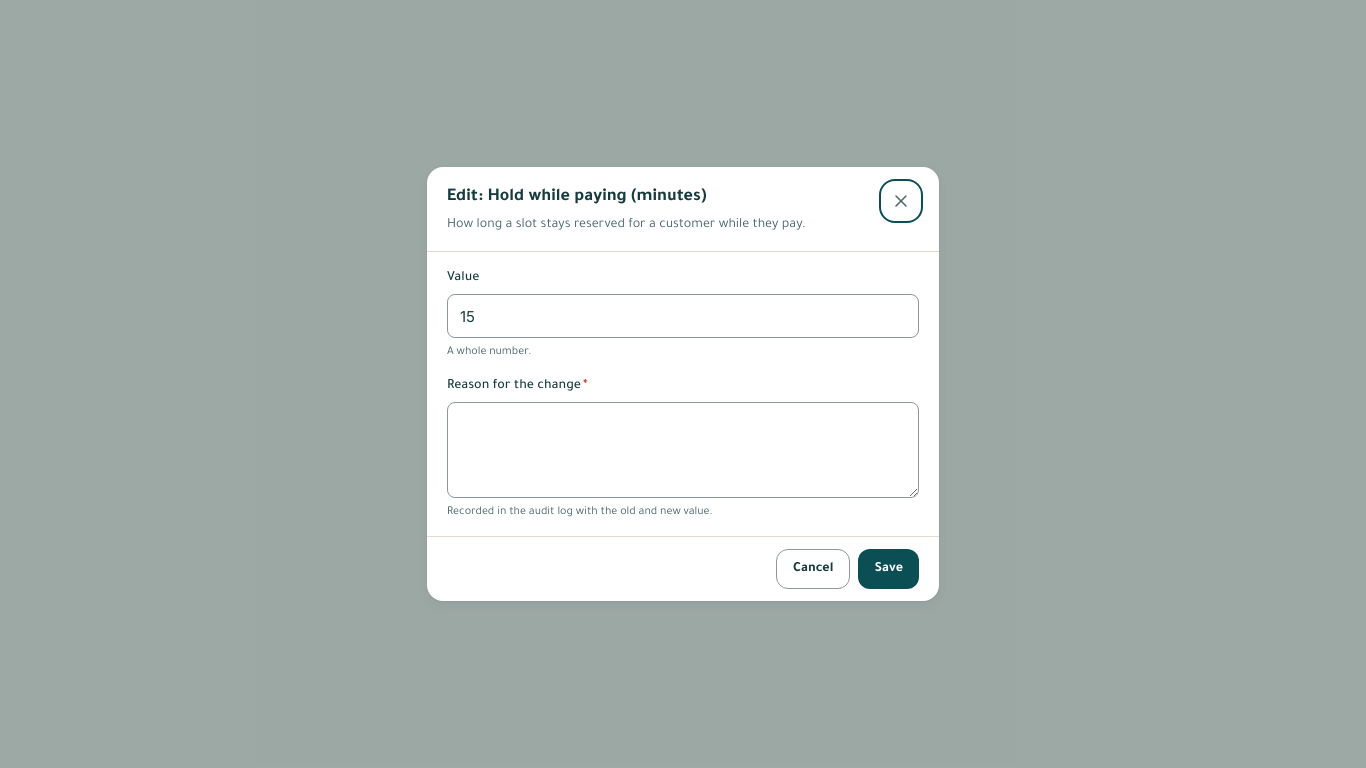
Test: SettingEditDialog › shows the API's INVALID_SETTING_VALUE on the value
Type "x" into the text box labelled "Reason for the change*" at (683, 450), box [447,402,919,498]
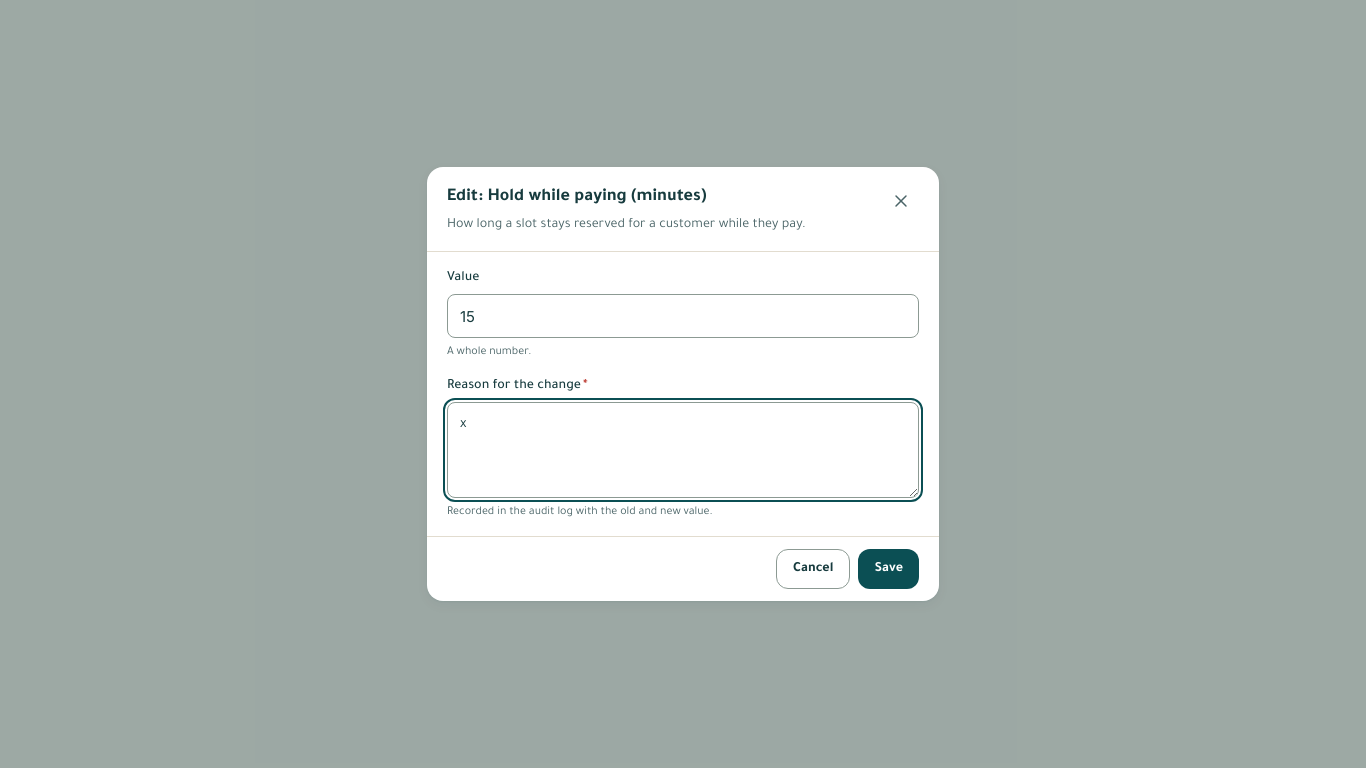
Click the button "Save" at (889, 569), box [858,549,919,589]
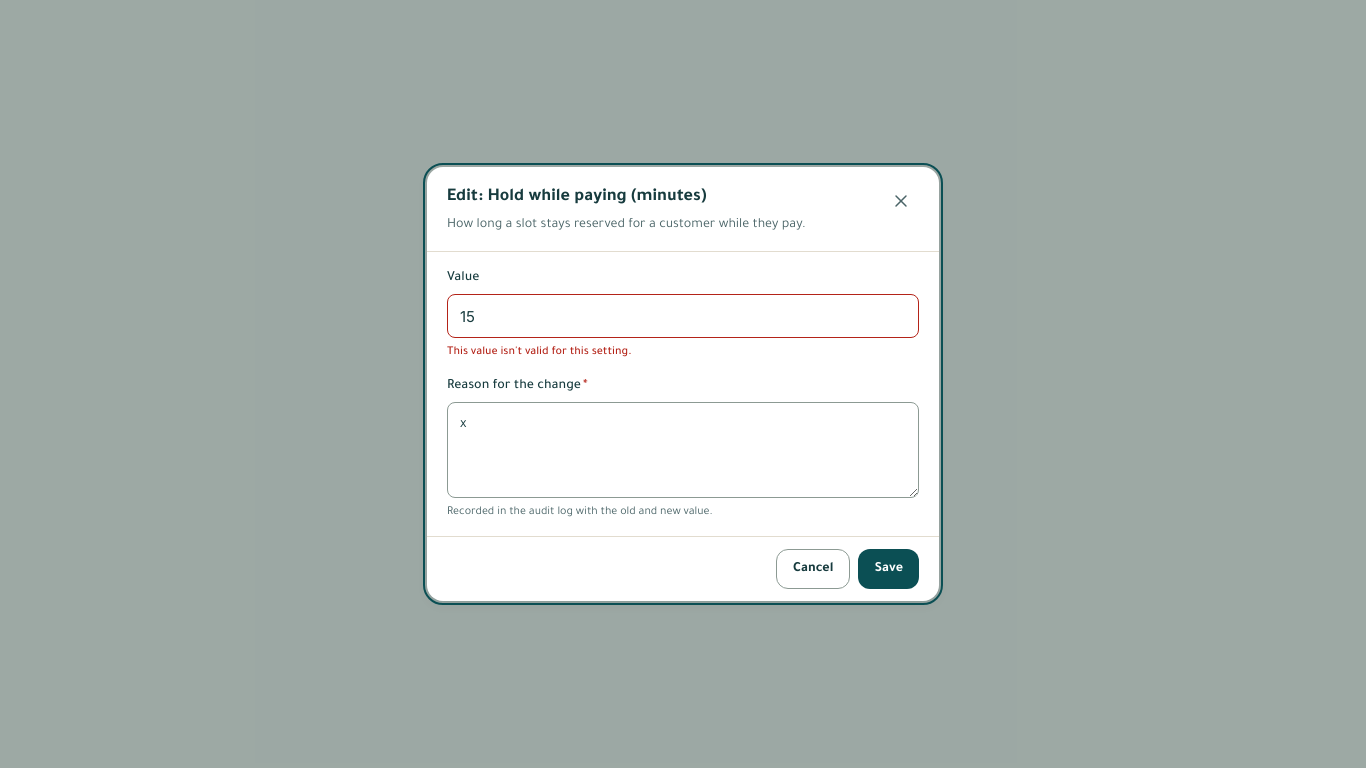
expect the text "This value isn't valid for this setting." is shown: met, box [447,346,632,358]
